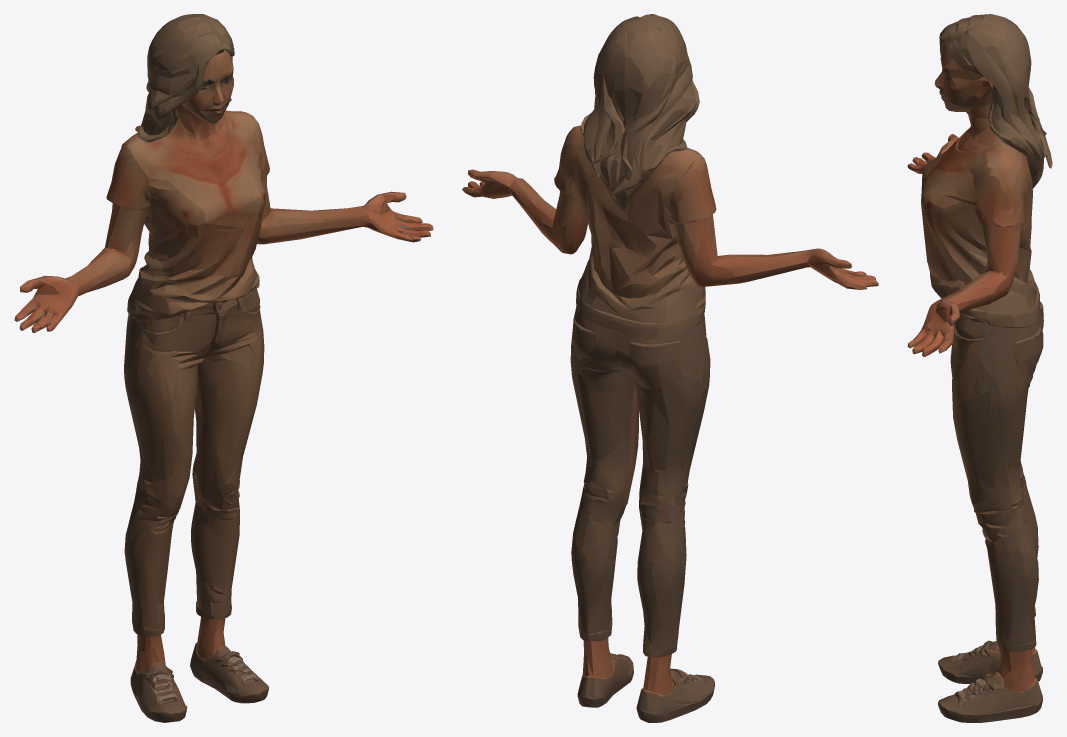
The model's file is pedestrian_b.glb.
The picture shows the model from 3 angles, left to right: view 1: azimuth 30°, elevation 25°; view 2: azimuth 150°, elevation 25°; view 3: azimuth 270°, elevation 25°; orthographic projection.
Bounding box in the file's own units: 1.2 × 1.9 × 0.3679.
Materials: 1 (1 with a texture image).
